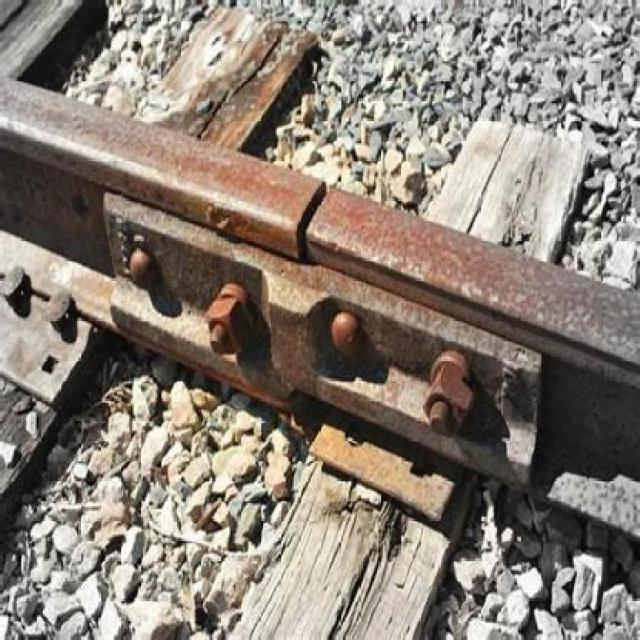defective: (99, 123, 640, 404)
